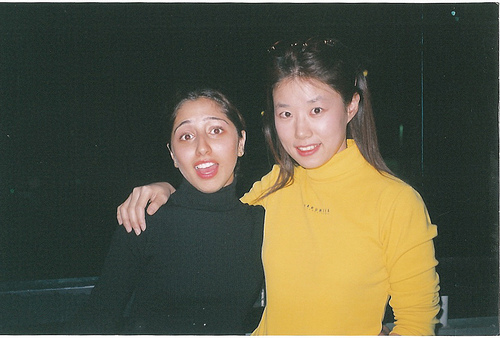without_mask: (257, 48, 382, 177), (155, 90, 257, 199)
